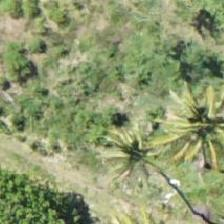Kelapa_Sawit: (98, 109, 188, 199), (164, 87, 224, 177)
